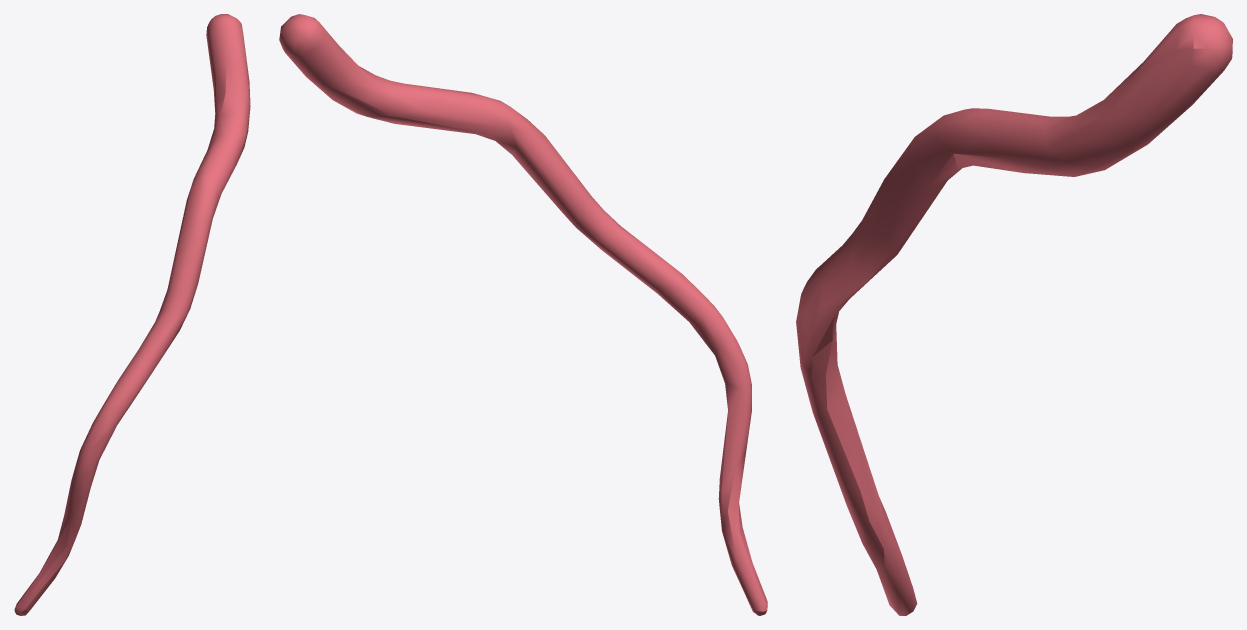
Rendered from fma3874_fj2646.glb.
3 renders of one model, left to right at view 1: azimuth 30°, elevation 25°; view 2: azimuth 150°, elevation 25°; view 3: azimuth 270°, elevation 25°, orthographic. The views are drawn at different scales.
Parts seen in each view (by area): view 1: FMA3874_FJ2646; view 2: FMA3874_FJ2646; view 3: FMA3874_FJ2646.
Part boxes in pixels (x1,y1,x2,y2): FMA3874_FJ2646: (14,14,250,615); FMA3874_FJ2646: (279,14,767,615); FMA3874_FJ2646: (796,14,1232,615).
Bounding box in the file's own units: 0.0174 × 0.0254 × 0.0119.
